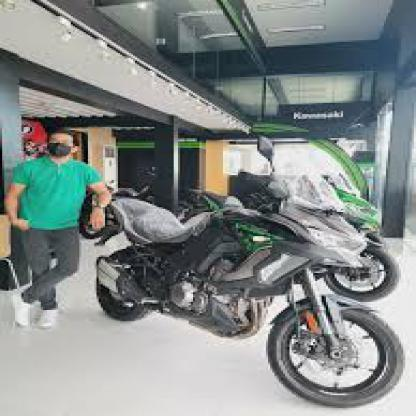Motorcycle: (120, 150, 409, 407)
